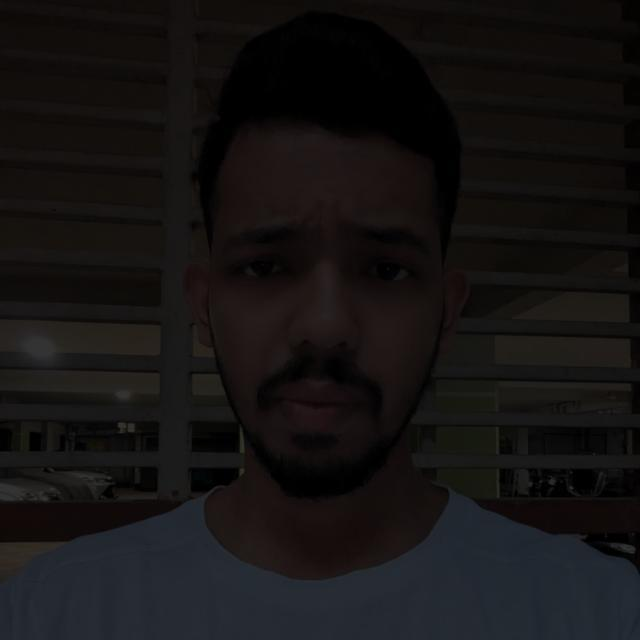Sad: (159, 79, 464, 481)
